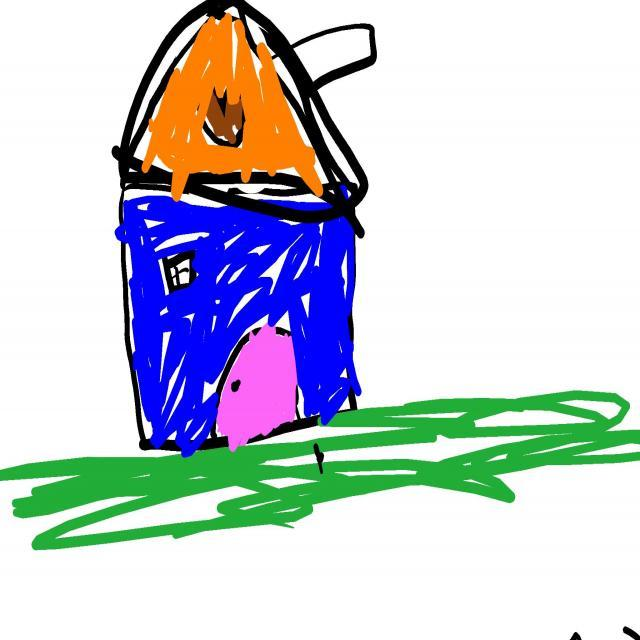chimney: (290, 26, 379, 93)
door: (217, 325, 298, 452)
house: (113, 0, 376, 457)
wall: (116, 173, 353, 432)
window: (158, 251, 196, 295)
